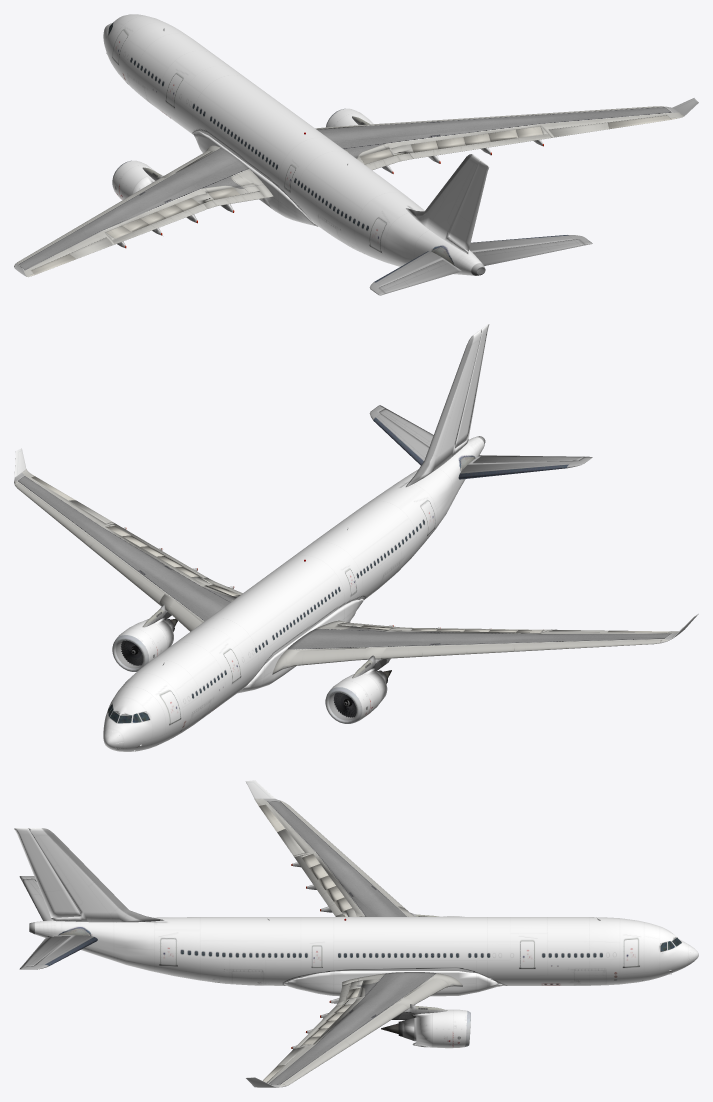
The picture shows the model from 3 angles, top to bottom: view 1: azimuth 30°, elevation 25°; view 2: azimuth 150°, elevation 25°; view 3: azimuth 270°, elevation 25°; orthographic projection. The views are drawn at different scales.
Parts seen in each view (by area): view 1: fuselage_003, cylinder_006, cylinder_004, vstab, wing_in0_001, hstab, cylinder_002, cylinder_001, rudder, wing_in1_001, bellyfairing, elevator1 (+6 smaller); view 2: fuselage_003, vstab, cylinder_006, cylinder_004, hstab, wing_in0_001, cylinder_002, cylinder_001, slat_out0_001, bellyfairing, wing_in1_001, rudder (+8 smaller); view 3: fuselage_003, vstab, cylinder_004, bellyfairing, rudder, cylinder_006, wing_in1_001, cylinder_001, ge_nacelle1, cylinder_002, hstab, slat_out1_001 (+5 smaller).
Part boxes in pixels (<box>): fuselage_003: <box>103,14,485,275</box>; cylinder_006: <box>364,115,552,148</box>; cylinder_004: <box>89,171,206,244</box>; vstab: <box>405,154,481,253</box>; wing_in0_001: <box>175,145,273,197</box>; hstab: <box>369,235,592,295</box>; cylinder_002: <box>528,106,684,137</box>; cylinder_001: <box>14,222,113,276</box>; rudder: <box>449,161,489,251</box>; wing_in1_001: <box>316,125,389,157</box>; bellyfairing: <box>193,131,317,226</box>; elevator1: <box>473,239,584,265</box>; fuselage_003: <box>103,436,485,751</box>; vstab: <box>406,329,481,487</box>; cylinder_006: <box>89,522,205,611</box>; cylinder_004: <box>363,629,552,659</box>; hstab: <box>369,405,592,479</box>; wing_in0_001: <box>272,620,389,674</box>; cylinder_002: <box>14,469,113,536</box>; cylinder_001: <box>528,629,678,643</box>; slat_out0_001: <box>381,643,528,658</box>; bellyfairing: <box>237,599,363,693</box>; wing_in1_001: <box>175,585,236,622</box>; rudder: <box>455,324,489,448</box>; fuselage_003: <box>29,917,684,985</box>; vstab: <box>28,828,163,922</box>; cylinder_004: <box>294,852,413,916</box>; bellyfairing: <box>284,971,502,996</box>; rudder: <box>14,828,81,917</box>; cylinder_006: <box>294,994,415,1048</box>; wing_in1_001: <box>342,972,462,997</box>; cylinder_001: <box>254,798,337,856</box>; ge_nacelle1: <box>432,1009,467,1048</box>; cylinder_002: <box>254,1044,337,1087</box>; hstab: <box>19,876,97,969</box>; slat_out1_001: <box>339,1003,407,1048</box>.
Bounding box in the file's own units: 59.91 × 16.13 × 58.36.
20 materials, 16 textured.
